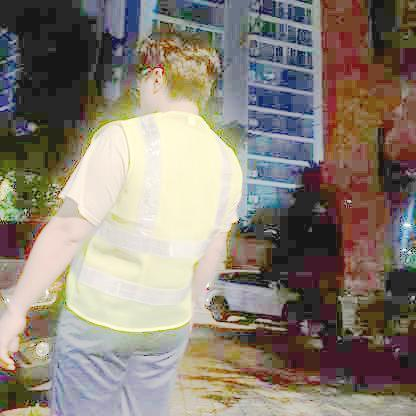no-helmet: (127, 24, 218, 103)
vest: (63, 109, 244, 334)
